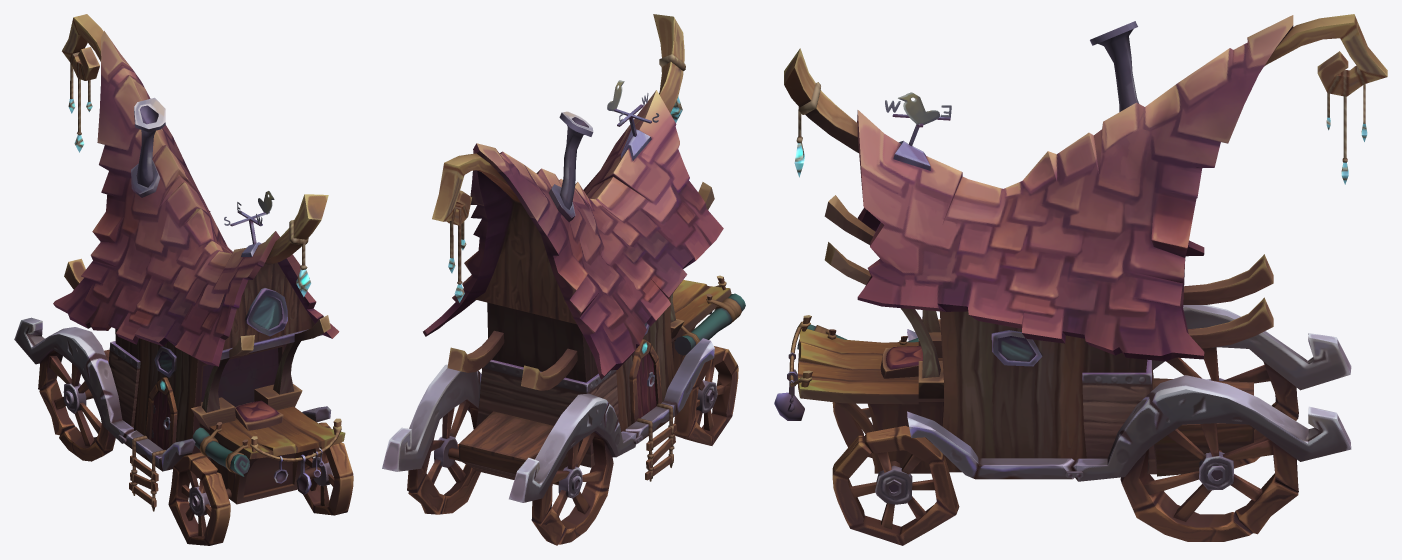
The model's file is wagon.gltf.
3 views of the same model, side by side, from view 1: azimuth 30°, elevation 25°; view 2: azimuth 150°, elevation 25°; view 3: azimuth 270°, elevation 25° (orthographic). The views are drawn at different scales.
Visible parts, largest first — view 1: WagonBase; view 2: WagonBase; view 3: WagonBase, WagonAlfa.
Part boxes in pixels (bbox=[...]): WagonBase: bbox=[14, 14, 353, 545]; WagonBase: bbox=[382, 14, 745, 545]; WagonBase: bbox=[774, 14, 1387, 545]; WagonAlfa: bbox=[885, 92, 951, 124].
Size of the model in its own units: 1.38 by 2.91 by 3.32.
Materials: 2 (2 with a texture image).
